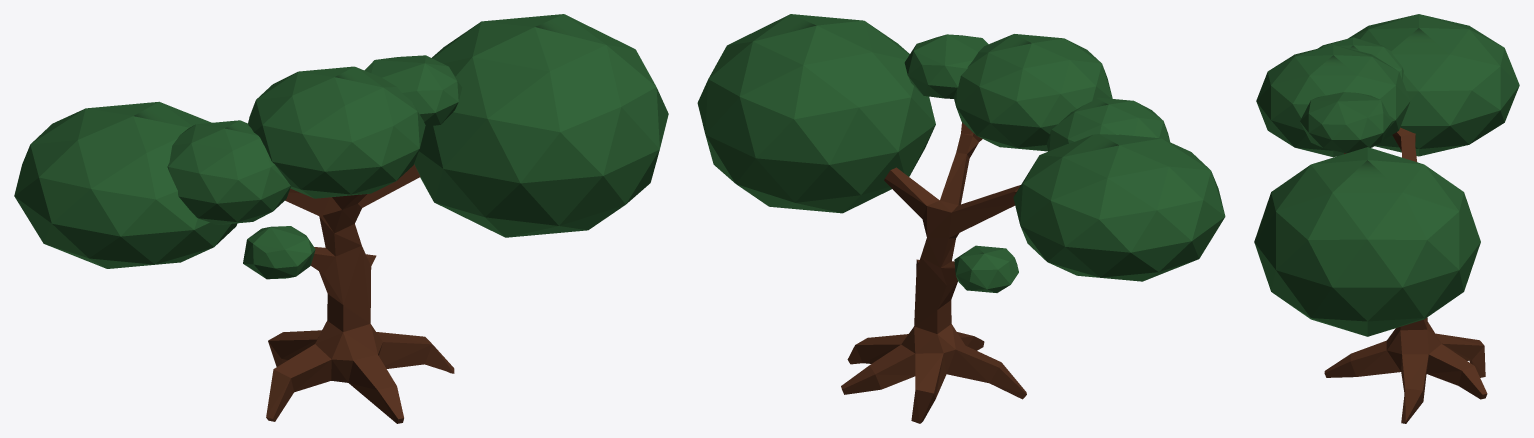
Rendered from Tree.obj.
3 views of the same model, side by side, from view 1: azimuth 30°, elevation 25°; view 2: azimuth 150°, elevation 25°; view 3: azimuth 270°, elevation 25° (orthographic). The views are drawn at different scales.
Visible parts, largest first — view 1: 立方体.005; view 2: 立方体.005; view 3: 立方体.005.
Boxes of the visible parts, box(x1,y1,x2,y2) form: 立方体.005: box(14, 14, 668, 423); 立方体.005: box(697, 14, 1225, 423); 立方体.005: box(1254, 14, 1519, 423).
Bounding box in the file's own units: 15.33 × 9.31 × 7.29.
1 material, 1 textured.
